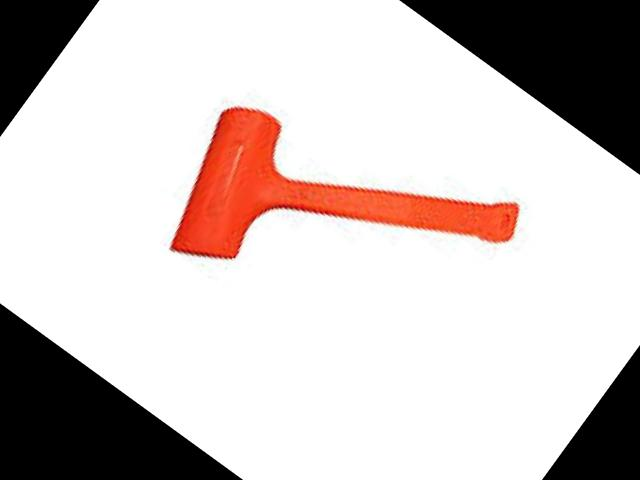hammer: (134, 32, 530, 412)
